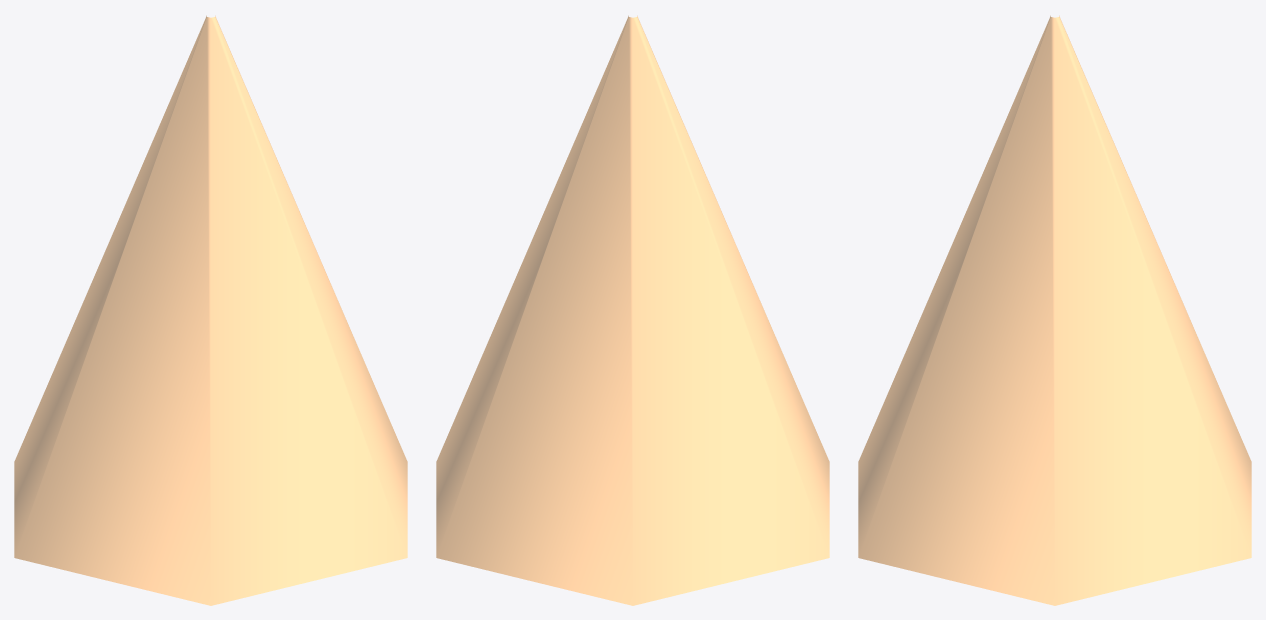
The model's file is ville_lm_flamme.glb.
3 renders of one model, left to right at view 1: azimuth 30°, elevation 25°; view 2: azimuth 150°, elevation 25°; view 3: azimuth 270°, elevation 25°, orthographic.
Parts seen in each view (by area): view 1: lm_flamme; view 2: lm_flamme; view 3: lm_flamme.
Part boxes in pixels (x1,y1,x2,y2): lm_flamme: (14,15,407,605); lm_flamme: (436,15,829,605); lm_flamme: (858,15,1251,605).
Bounding box in the file's own units: 1 × 1.2 × 0.866.
